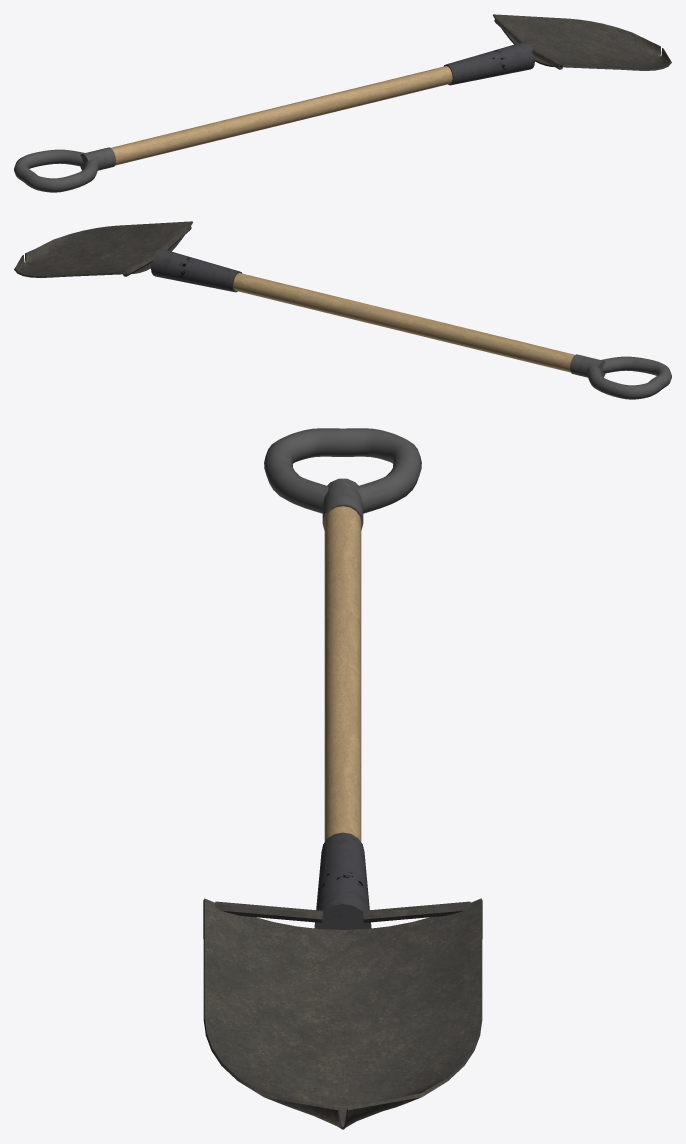
The model's file is prop_shovel.glb.
3 views of the same model, one above another, from view 1: azimuth 30°, elevation 25°; view 2: azimuth 150°, elevation 25°; view 3: azimuth 270°, elevation 25° (orthographic). The views are drawn at different scales.
Visible parts, largest first — view 1: Shaft, BladeSteel, Grip, Socket, Tread; view 2: Shaft, BladeSteel, Grip, Socket, Tread; view 3: BladeSteel, Shaft, Grip, Socket, Tread.
Boxes of the visible parts, box(x1,y1,x2,y2) form: Shaft: box(111, 66, 452, 165); BladeSteel: box(493, 14, 671, 70); Grip: box(14, 147, 115, 192); Socket: box(443, 41, 534, 85); Tread: box(494, 17, 562, 69); Shaft: box(233, 273, 574, 372); BladeSteel: box(14, 221, 192, 277); Grip: box(570, 354, 671, 399); Socket: box(151, 248, 242, 292); Tread: box(123, 224, 191, 276); BladeSteel: box(203, 898, 482, 1129); Shaft: box(324, 506, 361, 841); Grip: box(264, 428, 421, 530); Socket: box(314, 832, 371, 929); Tread: box(215, 901, 470, 922).
Bounding box in the file's own units: 1.44 × 0.1095 × 0.2724.
4 materials, 4 textured.
